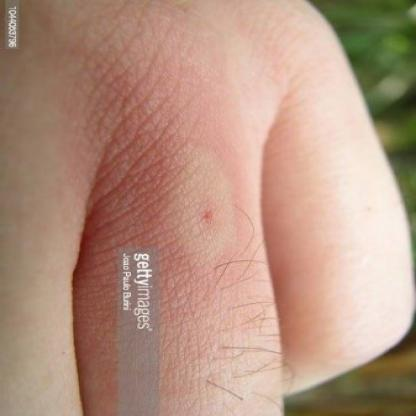Wasp: (159, 151, 248, 271)
